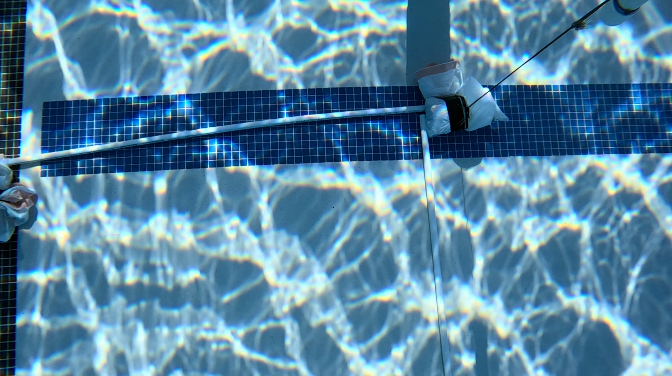sandbag: (415, 58, 500, 135), (1, 154, 42, 242)
